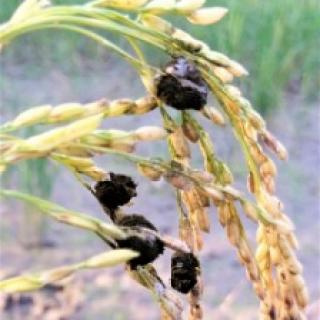Gosong-Palsu: (151, 56, 211, 116), (114, 215, 164, 279), (90, 164, 139, 212), (167, 244, 205, 298)
